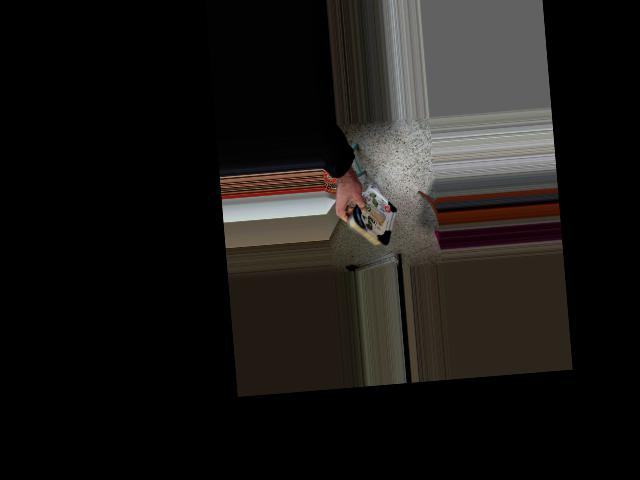cheese: (329, 188, 406, 249)
